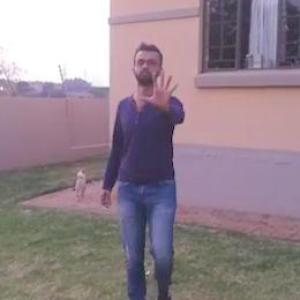follow_hand: (136, 61, 184, 116)
